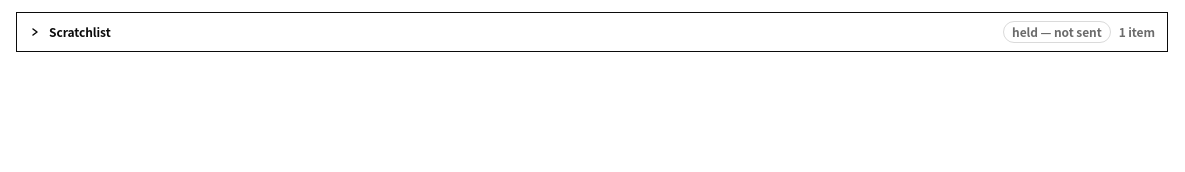
ScratchlistPanel › deletes an entry without a confirm prompt for short entries
Click the button "Scratchlist held — not sent 1 item".
click(80, 32)  # box top-left (17, 13), bottom-right (1167, 51)
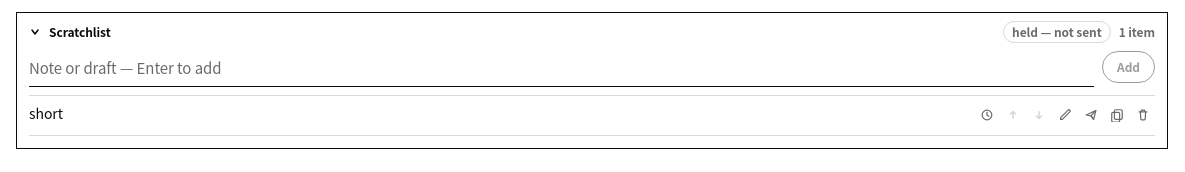
Click the button named "Delete entry".
click(1143, 114)  # box top-left (1131, 102), bottom-right (1155, 126)
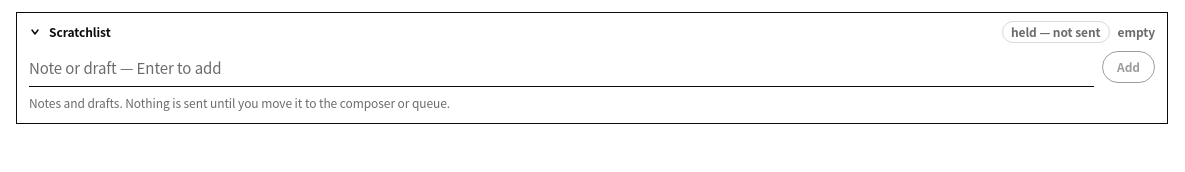
Now the text "short" is gone
